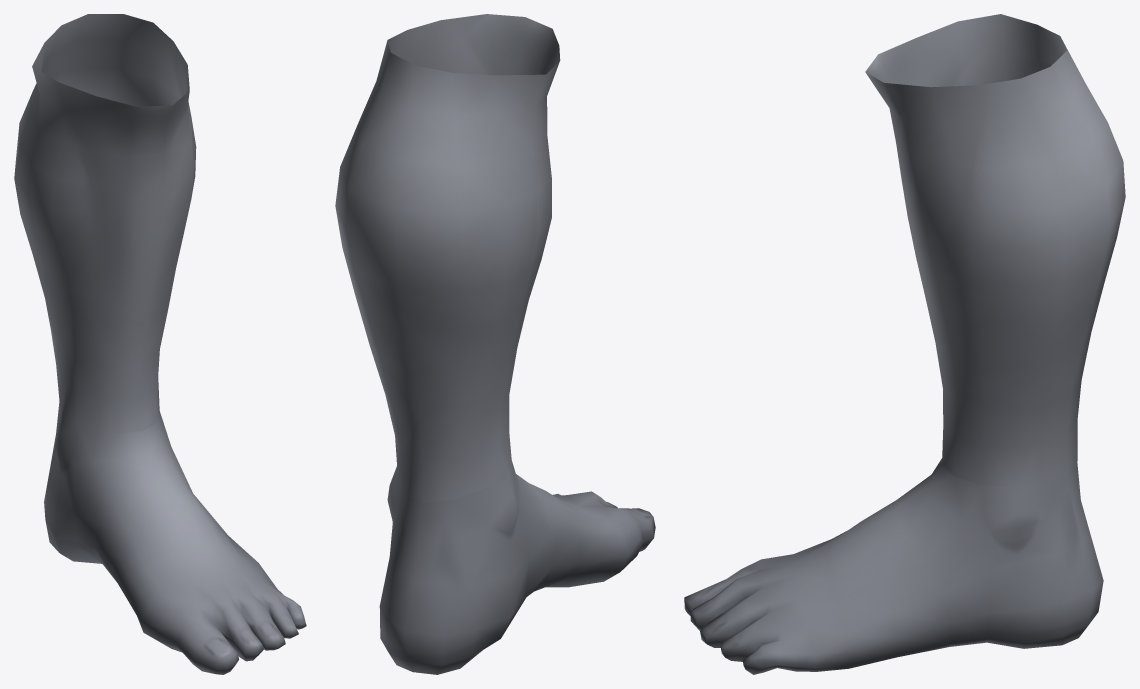
Rendered from Bote_PantorrillaIzq.obj.
The picture shows the model from 3 angles, left to right: view 1: azimuth 30°, elevation 25°; view 2: azimuth 150°, elevation 25°; view 3: azimuth 270°, elevation 25°; orthographic projection. The views are drawn at different scales.
Visible parts, largest first — view 1: Object004; view 2: Object004; view 3: Object004.
Part boxes in pixels (bbox=[...]): Object004: bbox=[14, 14, 306, 674]; Object004: bbox=[335, 14, 655, 674]; Object004: bbox=[684, 14, 1125, 674].
Bounding box in the file's own units: 0.5004 × 1.55 × 1.05.
